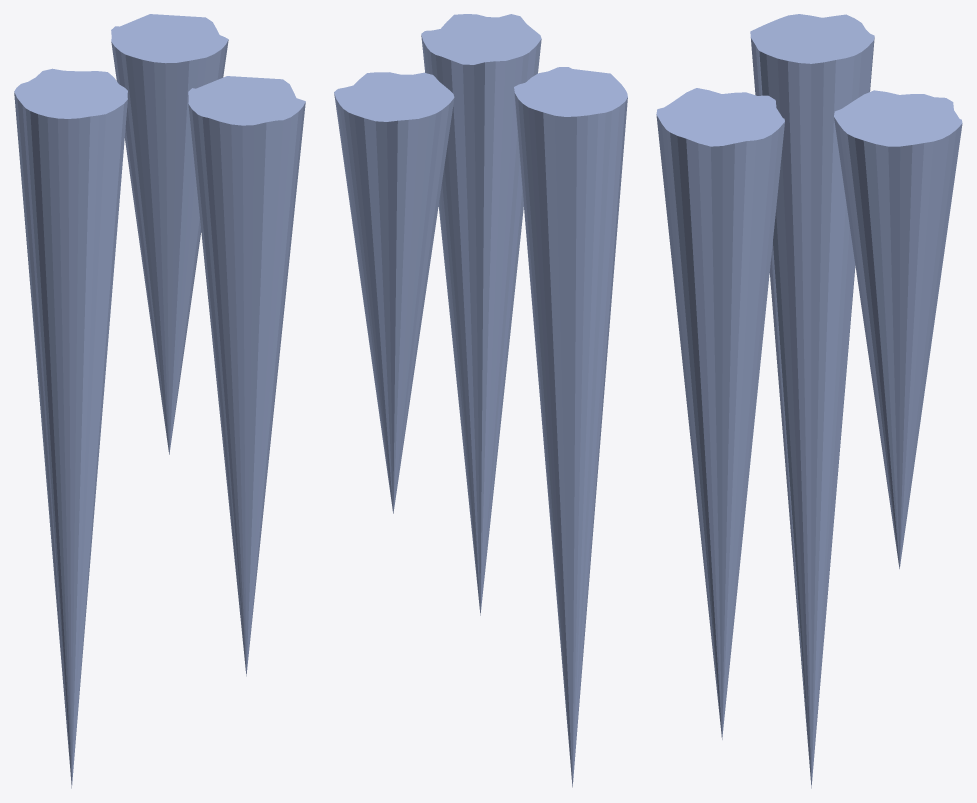
File: icicles.fbx
The picture shows the model from 3 angles, left to right: view 1: azimuth 30°, elevation 25°; view 2: azimuth 150°, elevation 25°; view 3: azimuth 270°, elevation 25°; orthographic projection. The views are drawn at different scales.
Visible parts, largest first — view 1: Cone, Cone.001; view 2: Cone, Cone.001; view 3: Cone, Cone.001.
Boxes of the visible parts, x1,y1,x2,y2 form: Cone: (111, 14, 305, 676); Cone.001: (14, 68, 127, 788); Cone: (334, 14, 541, 615); Cone.001: (514, 67, 627, 787); Cone: (656, 88, 962, 739); Cone.001: (750, 14, 874, 788).
Bounding box in the file's own units: 151 × 428 × 158.
